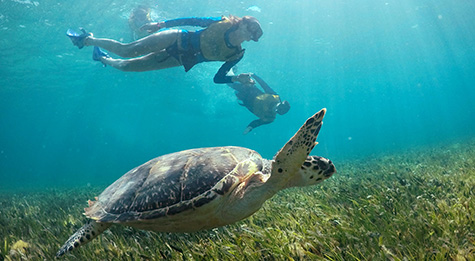trutle: (74, 103, 353, 247)
